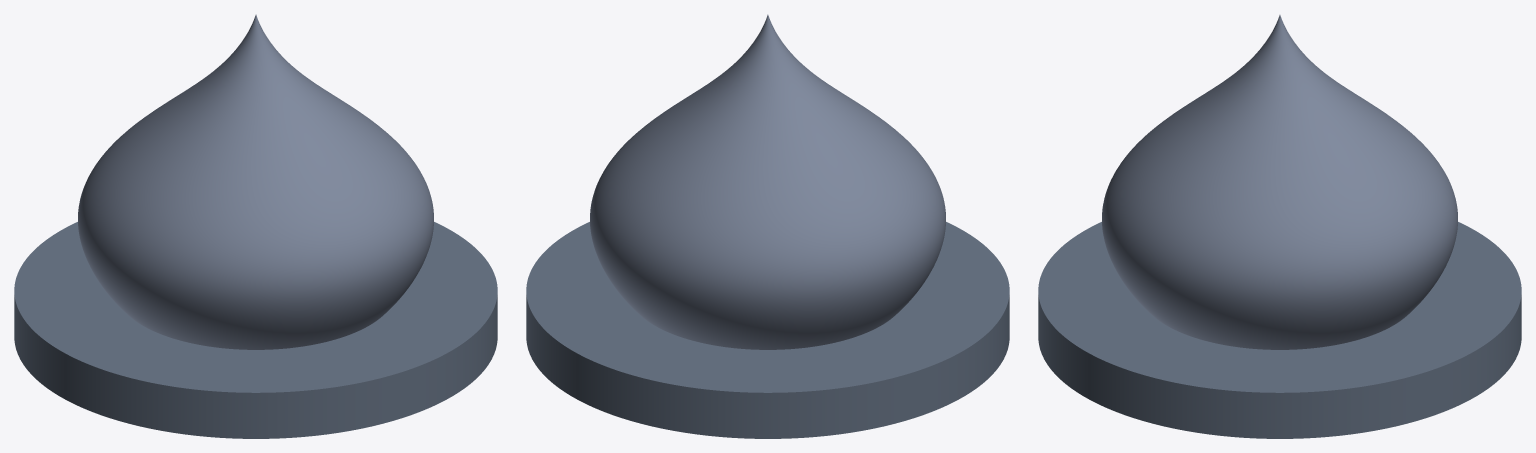
The model's file is camur.glb.
The picture shows the model from 3 angles, left to right: view 1: azimuth 30°, elevation 25°; view 2: azimuth 150°, elevation 25°; view 3: azimuth 270°, elevation 25°; orthographic projection.
Size of the model in its own units: 0.038 by 0.028 by 0.038.
